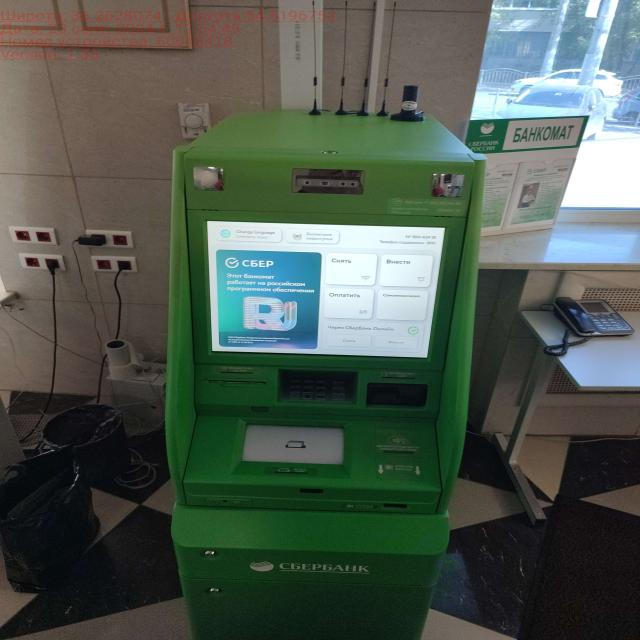bank: (175, 115, 486, 640)
